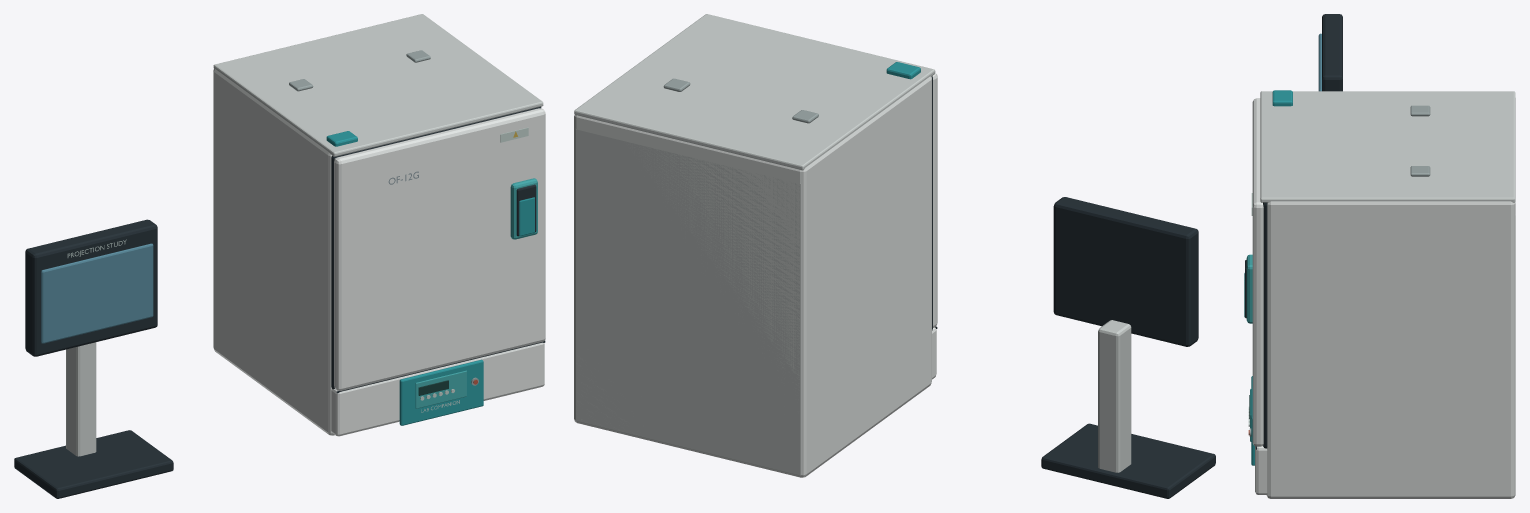
3 renders of one model, left to right at view 1: azimuth 30°, elevation 25°; view 2: azimuth 150°, elevation 25°; view 3: azimuth 270°, elevation 25°, orthographic. The views are drawn at different scales.
Parts seen in each view (by area): view 1: closed_solid_door, exterior_dimension_reference, of12g_dormant_enclosure Ivory top mottled metal, detached_projection_exhibit Cabinet closed seam, detached_projection_panel, Lower front deck, Exhibit pedestal, of12g_dormant_enclosure Deep teal fascia, of12g_dormant_enclosure Cabinet closed seam, of12g_dormant_enclosure Teal outer pull rim, teal_pull_static_silhouette; view 2: of12g_dormant_enclosure Ivory top mottled metal, exterior_dimension_reference, detached_projection_exhibit Cabinet closed seam, Exhibit pedestal, closed_solid_door; view 3: exterior_dimension_reference, of12g_dormant_enclosure Ivory top mottled metal, closed_solid_door, detached_projection_exhibit Cabinet closed seam, of12g_dormant_enclosure Cabinet closed seam, Lower front deck, of12g_dormant_enclosure Deep teal fascia, of12g_dormant_enclosure Teal outer pull rim, of12g_dormant_enclosure Small fixed metallic trim.
Boxes of the visible parts, x1=… form: closed_solid_door: x1=334, y1=108, x2=545, y2=390; exterior_dimension_reference: x1=213, y1=69, x2=334, y2=435; of12g_dormant_enclosure Ivory top mottled metal: x1=213, y1=14, x2=543, y2=156; detached_projection_exhibit Cabinet closed seam: x1=14, y1=219, x2=173, y2=498; detached_projection_panel: x1=41, y1=243, x2=153, y2=343; Lower front deck: x1=331, y1=342, x2=544, y2=436; Exhibit pedestal: x1=66, y1=342, x2=96, y2=456; of12g_dormant_enclosure Deep teal fascia: x1=326, y1=131, x2=483, y2=425; of12g_dormant_enclosure Cabinet closed seam: x1=331, y1=106, x2=545, y2=393; of12g_dormant_enclosure Teal outer pull rim: x1=415, y1=178, x2=537, y2=408; teal_pull_static_silhouette: x1=519, y1=197, x2=534, y2=236; of12g_dormant_enclosure Ivory top mottled metal: x1=574, y1=14, x2=935, y2=475; exterior_dimension_reference: x1=574, y1=76, x2=931, y2=477; detached_projection_exhibit Cabinet closed seam: x1=1041, y1=197, x2=1215, y2=498; Exhibit pedestal: x1=1098, y1=320, x2=1131, y2=472; closed_solid_door: x1=932, y1=73, x2=937, y2=327; exterior_dimension_reference: x1=1266, y1=98, x2=1515, y2=498; of12g_dormant_enclosure Ivory top mottled metal: x1=1260, y1=91, x2=1515, y2=495; closed_solid_door: x1=1252, y1=98, x2=1263, y2=446; detached_projection_exhibit Cabinet closed seam: x1=1322, y1=14, x2=1342, y2=91; of12g_dormant_enclosure Cabinet closed seam: x1=1245, y1=202, x2=1267, y2=449; Lower front deck: x1=1255, y1=446, x2=1267, y2=494; of12g_dormant_enclosure Deep teal fascia: x1=1251, y1=90, x2=1292, y2=465; of12g_dormant_enclosure Teal outer pull rim: x1=1246, y1=254, x2=1252, y2=441; of12g_dormant_enclosure Small fixed metallic trim: x1=1249, y1=105, x2=1430, y2=436.
Bounding box in the file's own units: 1.49 × 0.87 × 0.692.
